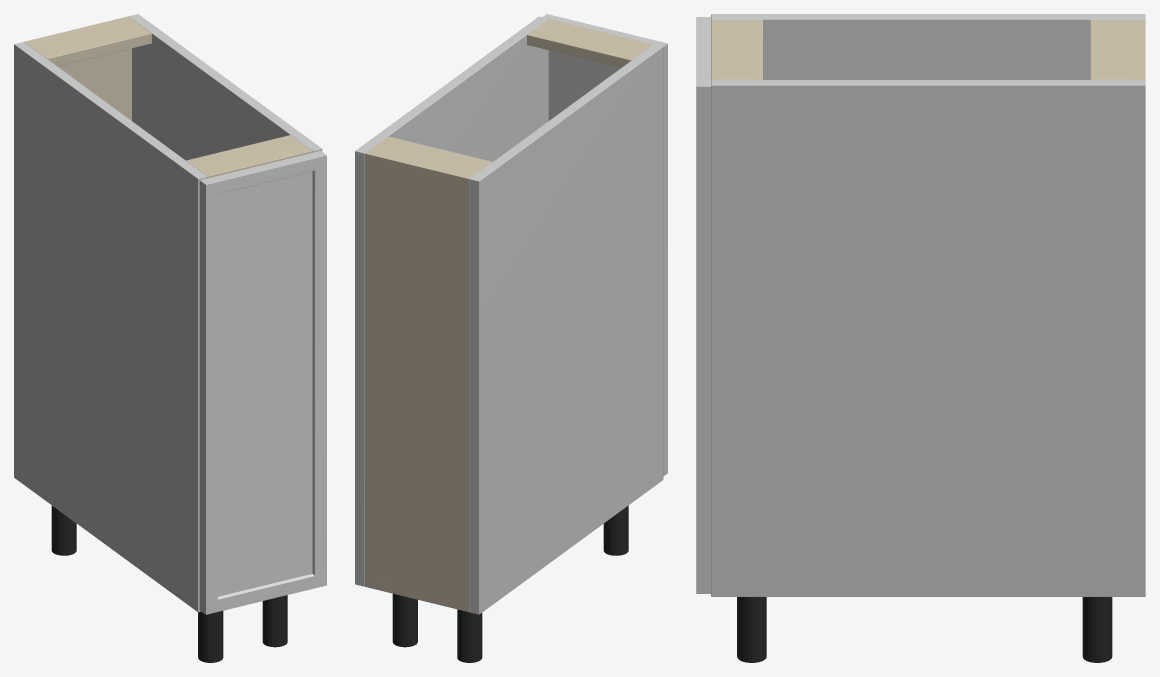
The model's file is oppein-ply-ssw-b09fh.glb.
3 renders of one model, left to right at view 1: azimuth 30°, elevation 25°; view 2: azimuth 150°, elevation 25°; view 3: azimuth 270°, elevation 25°, orthographic. The views are drawn at different scales.
Parts seen in each view (by area): view 1: Cabinet side, Door, Cabinet side.001, Cabinet back, Top support rail, Top support rail.001, Adjustable foot.001, Adjustable foot.003, Adjustable foot; view 2: Cabinet side, Cabinet back, Cabinet side.001, Door, Top support rail.001, Top support rail, Adjustable foot, Adjustable foot.002, Adjustable foot.001, Cabinet bottom; view 3: Cabinet side.001, Cabinet side, Door, Top support rail.001, Top support rail, Adjustable foot.002, Adjustable foot.003.
Boxes of the visible parts, x1,y1,x2,y2 form: Cabinet side: (14, 42, 207, 612); Door: (199, 151, 326, 614); Cabinet side.001: (129, 14, 322, 160); Cabinet back: (24, 16, 131, 120); Top support rail: (26, 19, 151, 66); Top support rail.001: (186, 135, 312, 178); Adjustable foot.001: (198, 611, 223, 662); Adjustable foot.003: (262, 595, 287, 647); Adjustable foot: (51, 505, 76, 555); Cabinet side: (469, 44, 663, 614); Cabinet back: (365, 151, 472, 611); Cabinet side.001: (355, 16, 548, 586); Door: (543, 14, 667, 476); Top support rail.001: (527, 19, 652, 67); Top support rail: (369, 136, 492, 176); Adjustable foot: (457, 609, 482, 662); Adjustable foot.002: (392, 593, 417, 647); Adjustable foot.001: (603, 505, 628, 555); Cabinet bottom: (365, 577, 469, 612); Cabinet side.001: (711, 80, 1145, 596); Cabinet side: (711, 14, 1145, 79); Door: (696, 17, 710, 593); Top support rail.001: (711, 19, 762, 79); Top support rail: (1090, 19, 1141, 79); Adjustable foot.002: (1082, 597, 1112, 662); Adjustable foot.003: (737, 597, 766, 662).
Size of the model in its own units: 0.2286 by 0.8763 by 0.6064.
